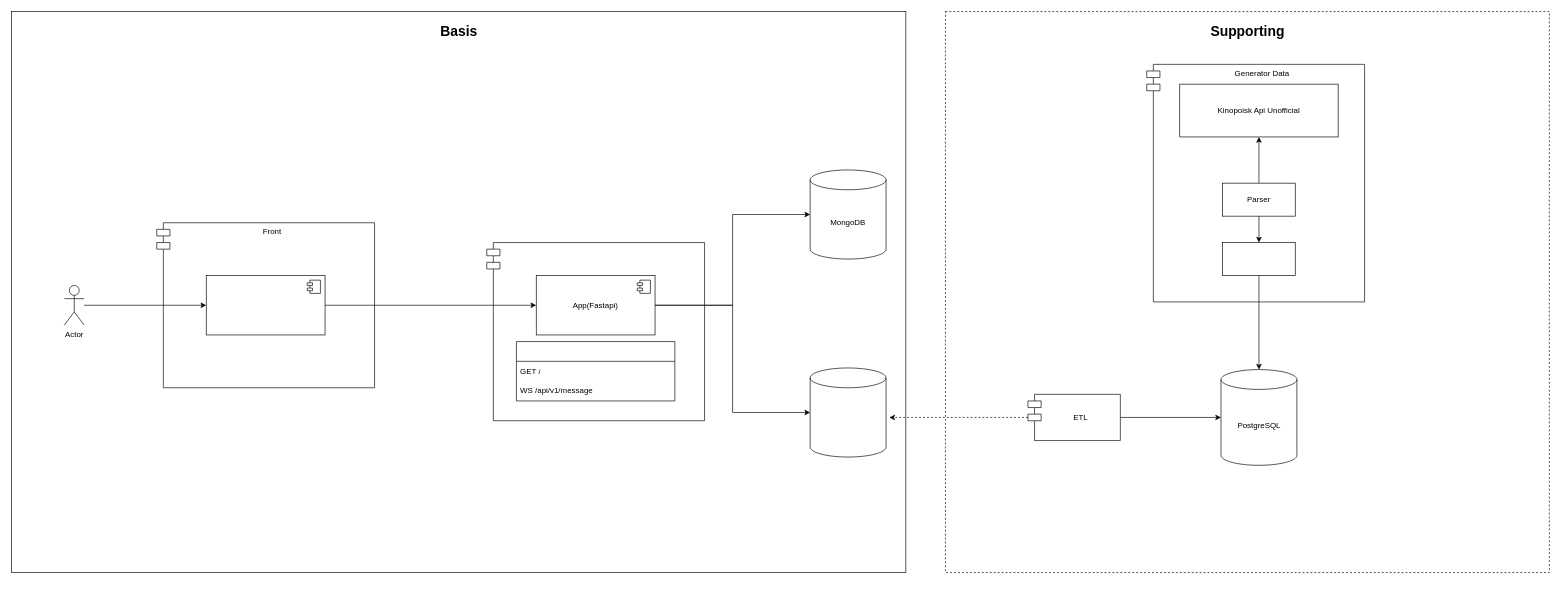
The diagram is 1561 pixels wide and 604 high, and some of its shapes have lost their labels. The box of each missing label's shape, as (x1, y1, x2, y2) in pixels:
Data(DDL): (1222, 242, 1295, 276)
Elasticsearch: (809, 367, 886, 457)
Hands: (516, 341, 675, 401)
Voice Helper API: (486, 242, 705, 421)
Web Speech API: (206, 275, 325, 335)
